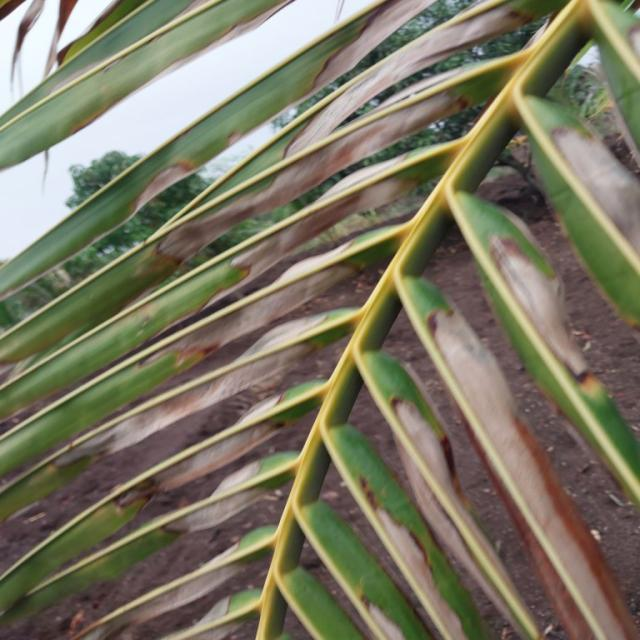gray leaf spot: (74, 2, 632, 627)
